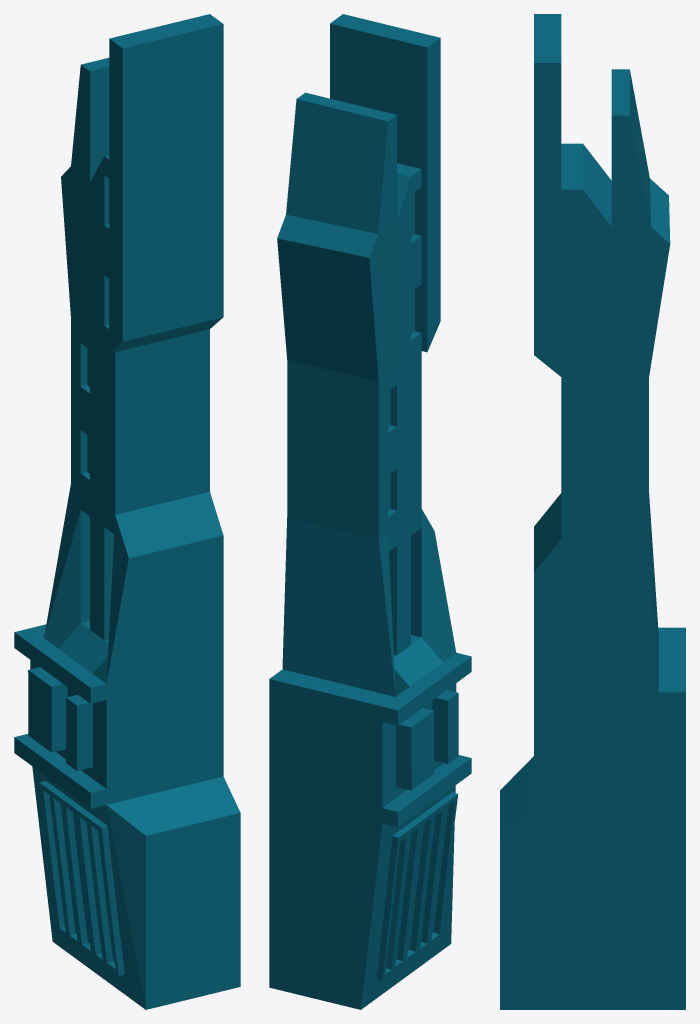
The picture shows the model from 3 angles, left to right: view 1: azimuth 30°, elevation 25°; view 2: azimuth 150°, elevation 25°; view 3: azimuth 270°, elevation 25°; orthographic projection. The views are drawn at different scales.
Parts seen in each view (by area): view 1: Box003; view 2: Box003; view 3: Box003.
Boxes of the visible parts, x1,y1,x2,y2 form: Box003: (14, 14, 240, 1009); Box003: (269, 14, 471, 1009); Box003: (500, 14, 685, 1009).
Size of the model in its own units: 30.7 by 209 by 37.25.
